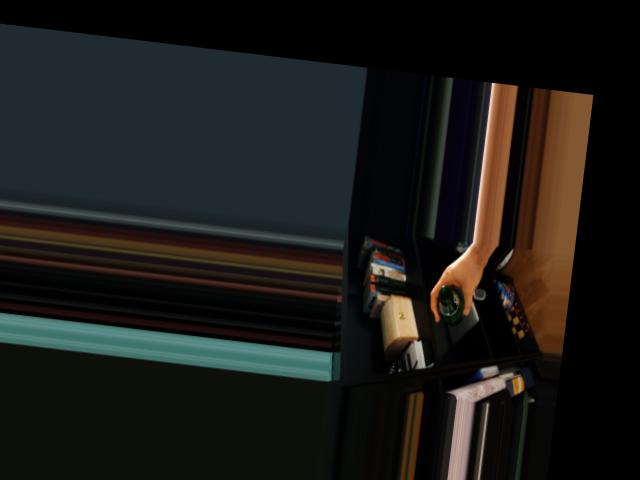beer: (435, 284, 468, 326)
